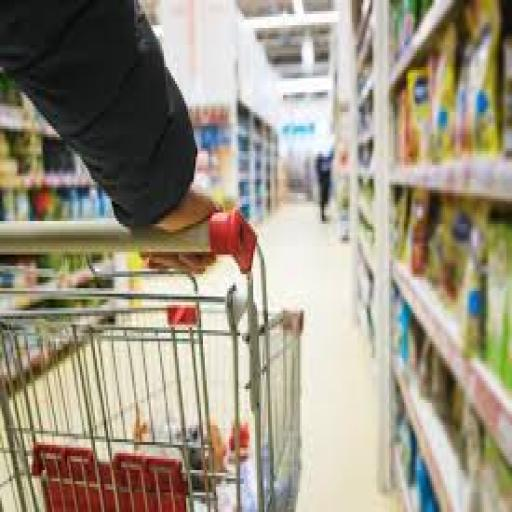shopping_cart: (0, 208, 302, 512)
